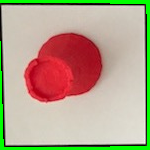Red Castle: (22, 27, 105, 105)
